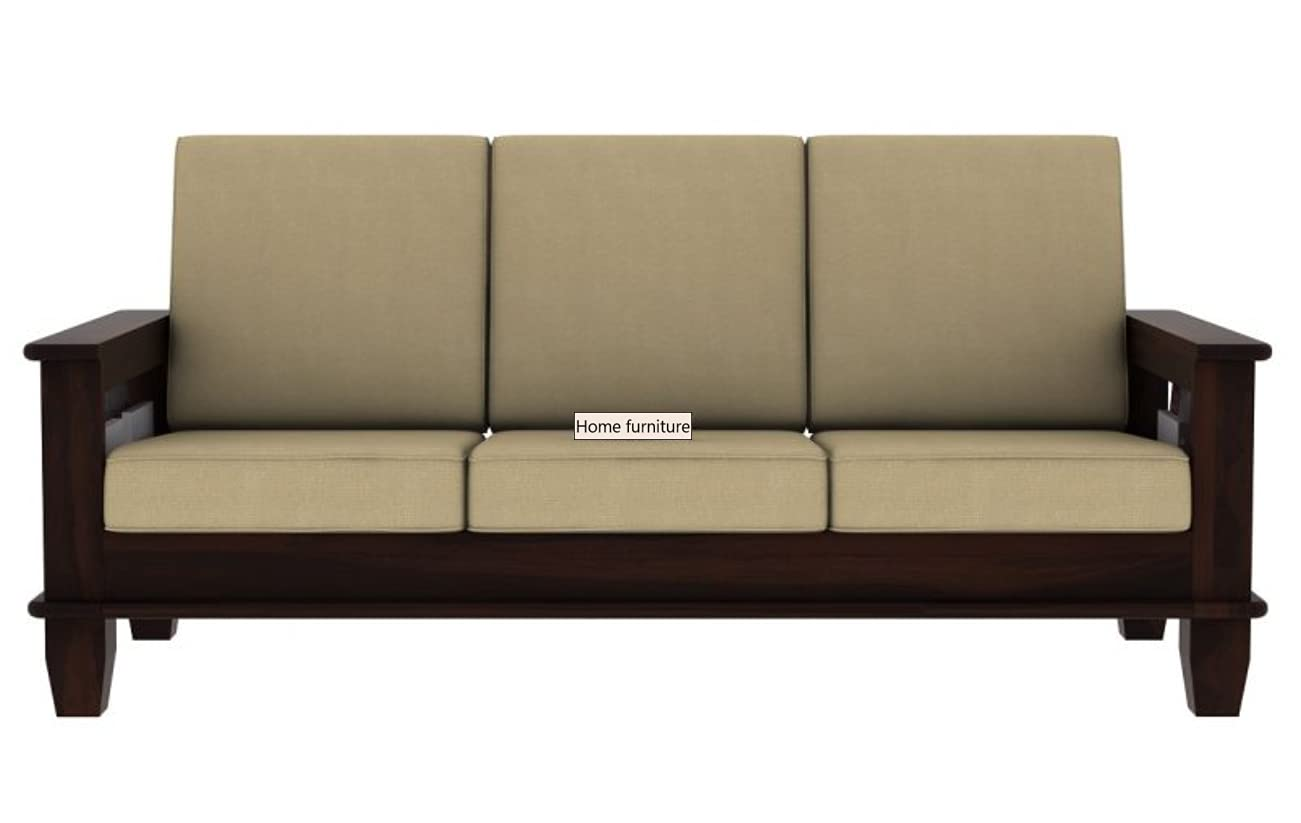3seatersofa: (25, 136, 1270, 715)
backrest: (168, 137, 1122, 428)
base: (29, 532, 1266, 623)
leftarmrest: (1127, 310, 1270, 598)
leg: (45, 615, 114, 714), (1180, 620, 1249, 716), (131, 618, 177, 640), (1119, 619, 1163, 639)
rightarmrest: (25, 310, 167, 599)
seat: (105, 431, 1191, 533)
